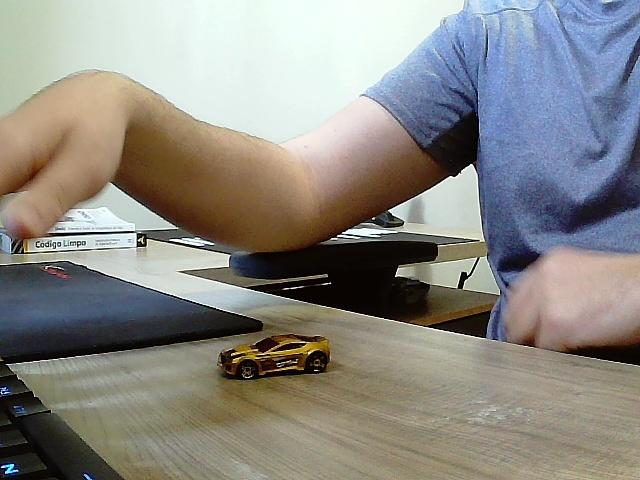Carro: (218, 336, 331, 382)
